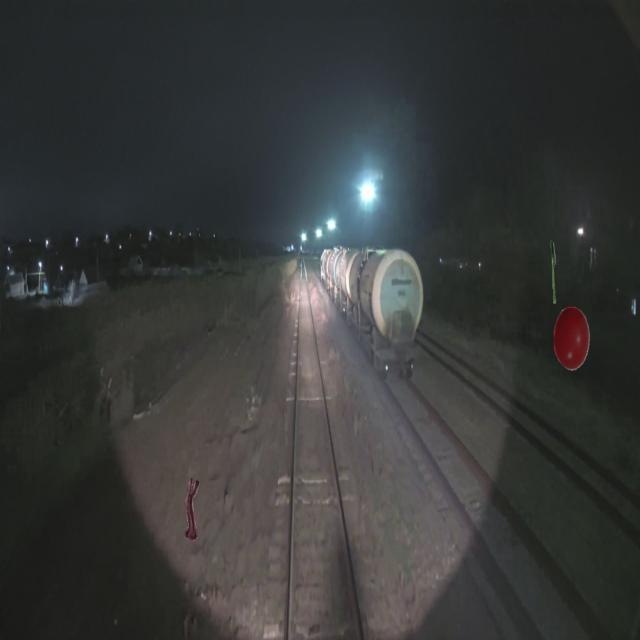balloon: (553, 306, 590, 371)
floating object: (184, 477, 200, 541), (550, 240, 556, 304)
